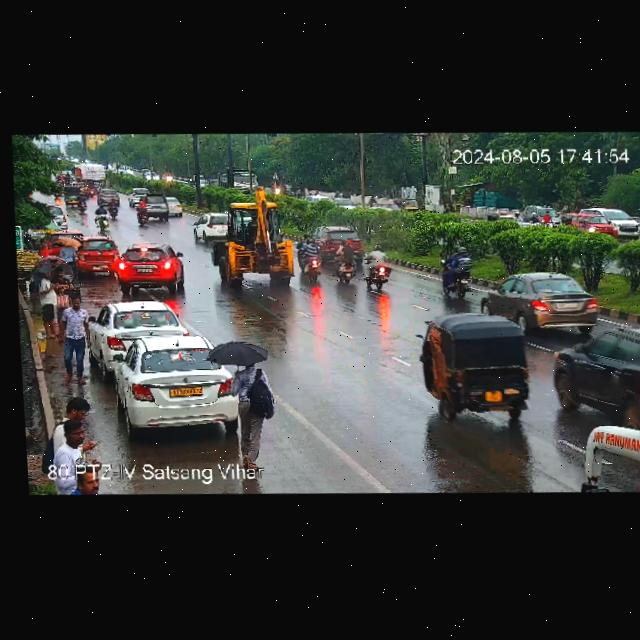bus: (572, 415, 640, 494)
car: (411, 309, 539, 422), (106, 331, 241, 432), (545, 321, 640, 404), (482, 268, 599, 332), (87, 298, 185, 363), (113, 241, 189, 293), (559, 204, 640, 243), (73, 237, 119, 275), (194, 213, 234, 242), (134, 193, 173, 220), (45, 202, 71, 228), (162, 195, 182, 216), (399, 197, 423, 214), (131, 186, 154, 197), (640, 203, 640, 237)
motorcycle: (436, 244, 487, 297), (354, 240, 399, 293), (331, 237, 371, 289), (295, 233, 325, 283), (93, 200, 122, 222), (92, 187, 121, 209), (65, 185, 89, 211), (134, 203, 156, 224), (56, 171, 75, 185), (529, 212, 540, 228), (515, 209, 525, 220), (543, 210, 551, 223)
person: (201, 339, 274, 464), (56, 297, 94, 387), (49, 420, 87, 462), (38, 268, 60, 332), (54, 391, 95, 415), (55, 236, 79, 269), (55, 267, 76, 304), (39, 239, 49, 261)
truck: (214, 192, 300, 287)
